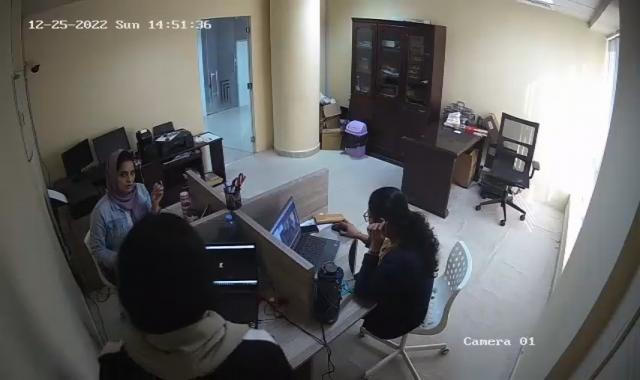no_hairnet: (112, 211, 215, 324), (364, 186, 412, 242), (106, 147, 137, 192)
